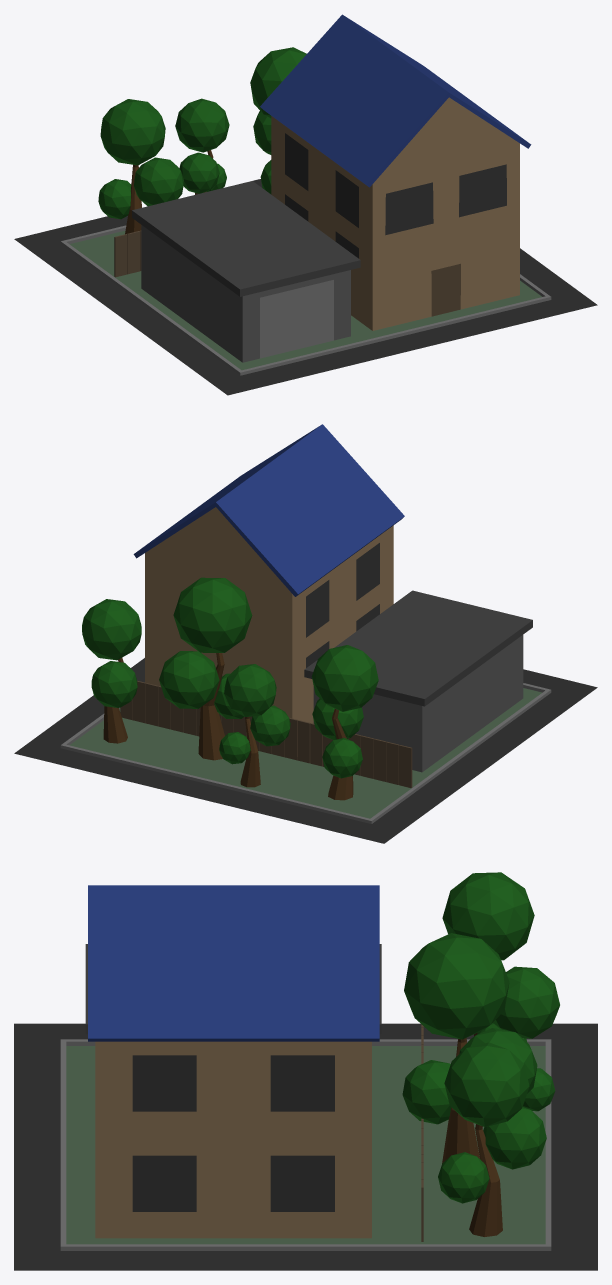
Rendered from city_3.fbx.
3 views of the same model, one above another, from view 1: azimuth 30°, elevation 25°; view 2: azimuth 150°, elevation 25°; view 3: azimuth 270°, elevation 25° (orthographic). The views are drawn at different scales.
Visible parts, largest first — view 1: city_tile.003; view 2: city_tile.003; view 3: city_tile.003.
Part boxes in pixels (x1,y1,x2,y2): city_tile.003: [14, 14, 597, 395]; city_tile.003: [14, 424, 597, 843]; city_tile.003: [14, 872, 597, 1270].
Size of the model in its own units: 1000 by 574 by 1000.
